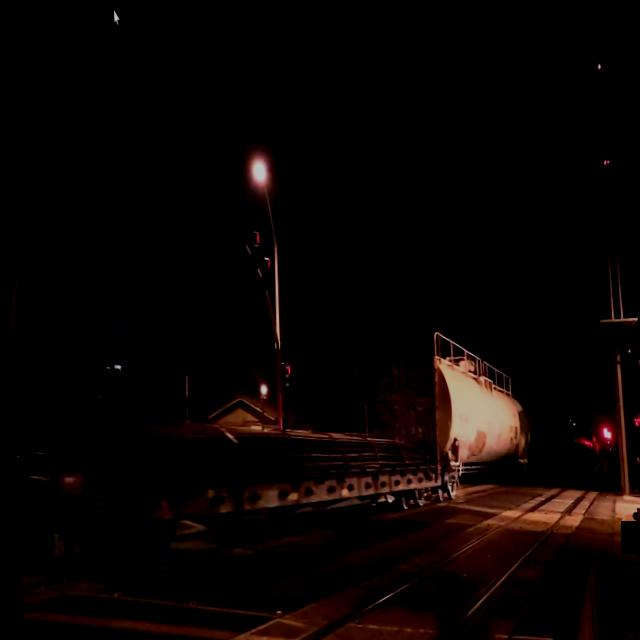flatcar_bulkhead: (3, 105, 447, 612)
tank: (432, 336, 529, 494)
